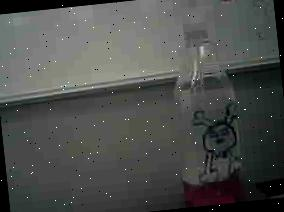hazard: (160, 0, 260, 208)
